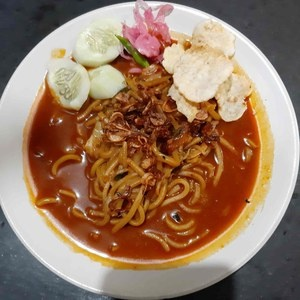mie_aceh: (26, 88, 265, 262)
